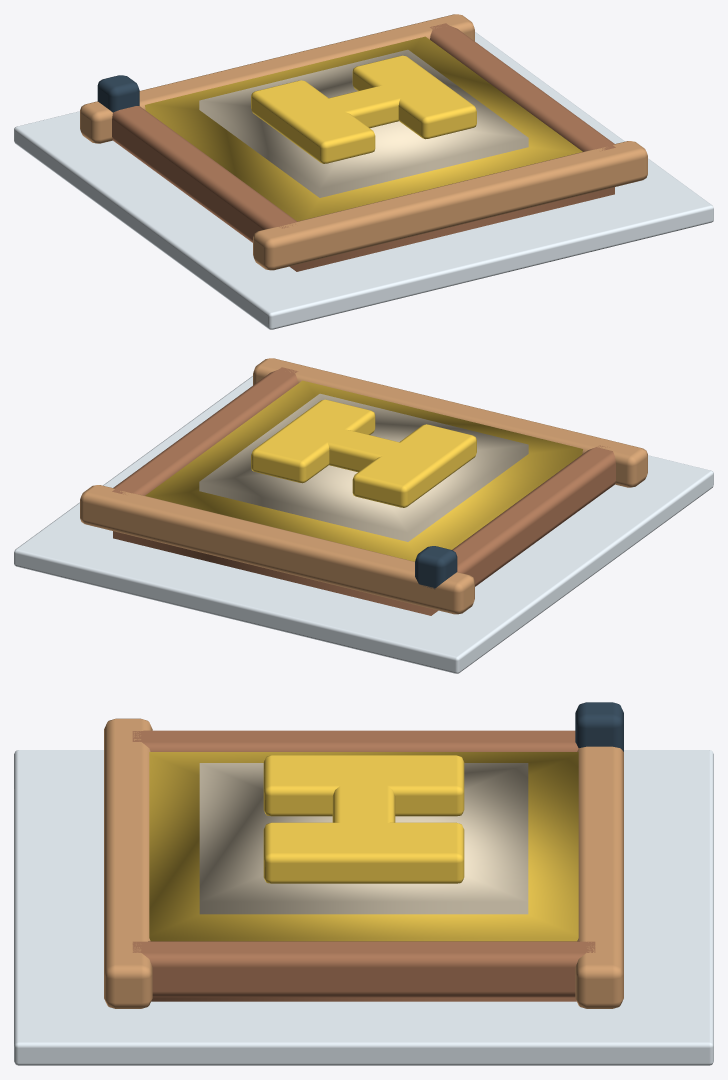
File: pad_build.glb
3 renders of one model, top to bottom at view 1: azimuth 30°, elevation 25°; view 2: azimuth 150°, elevation 25°; view 3: azimuth 270°, elevation 25°, orthographic. The views are drawn at different scales.
Parts seen in each view (by area): view 1: pad_build; view 2: pad_build; view 3: pad_build.
Part boxes in pixels (x1,y1,x2,y2): pad_build: (14, 14, 713, 329); pad_build: (14, 358, 713, 673); pad_build: (14, 702, 713, 1065).
Size of the model in its own units: 2.02 by 0.3675 by 2.02.
